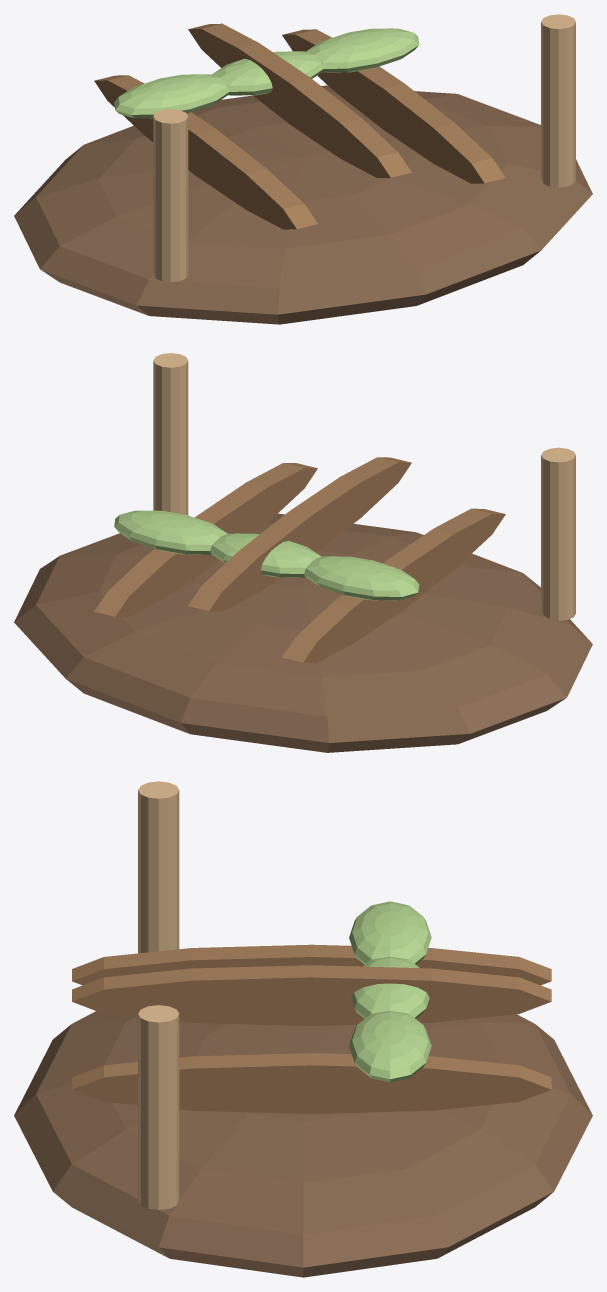
File: TwigYard.fbx
The picture shows the model from 3 angles, top to bottom: view 1: azimuth 30°, elevation 25°; view 2: azimuth 150°, elevation 25°; view 3: azimuth 270°, elevation 25°; orthographic projection. The views are drawn at different scales.
Visible parts, largest first — view 1: Worksite soil bed.002, Stacked twig.001, Stacked twig.002, Stacked twig, Yard fence, Yard fence.001, Twig leaf.002, Twig leaf, Twig leaf.001; view 2: Worksite soil bed.002, Stacked twig.001, Stacked twig, Stacked twig.002, Yard fence, Yard fence.001, Twig leaf, Twig leaf.002, Twig leaf.001; view 3: Worksite soil bed.002, Stacked twig.001, Stacked twig.002, Stacked twig, Yard fence.001, Yard fence, Twig leaf.002, Twig leaf, Twig leaf.001.
Boxes of the visible parts, x1,y1,x2,y2 form: Worksite soil bed.002: (14, 85, 592, 324); Stacked twig.001: (188, 23, 411, 178); Stacked twig.002: (282, 29, 505, 183); Stacked twig: (94, 75, 317, 229); Yard fence: (153, 109, 188, 282); Yard fence.001: (541, 14, 575, 187); Twig leaf.002: (306, 28, 419, 72); Twig leaf: (114, 74, 229, 118); Twig leaf.001: (212, 51, 323, 95); Worksite soil bed.002: (14, 513, 592, 752); Stacked twig.001: (188, 457, 411, 611); Stacked twig: (282, 508, 505, 662); Stacked twig.002: (94, 463, 317, 617); Yard fence: (541, 447, 575, 620); Yard fence.001: (153, 353, 188, 515); Twig leaf: (304, 556, 419, 600); Twig leaf.002: (114, 510, 227, 554); Twig leaf.001: (210, 533, 321, 577); Worksite soil bed.002: (14, 1011, 592, 1277); Stacked twig.001: (72, 965, 551, 1025); Stacked twig.002: (72, 1053, 551, 1113); Stacked twig: (72, 944, 551, 985); Yard fence.001: (138, 1005, 179, 1209); Yard fence: (138, 781, 179, 953); Twig leaf.002: (349, 1011, 431, 1082); Twig leaf: (349, 901, 431, 964); Twig leaf.001: (351, 956, 429, 1018).
Bounding box in the file's own units: 174 × 72 × 140.
